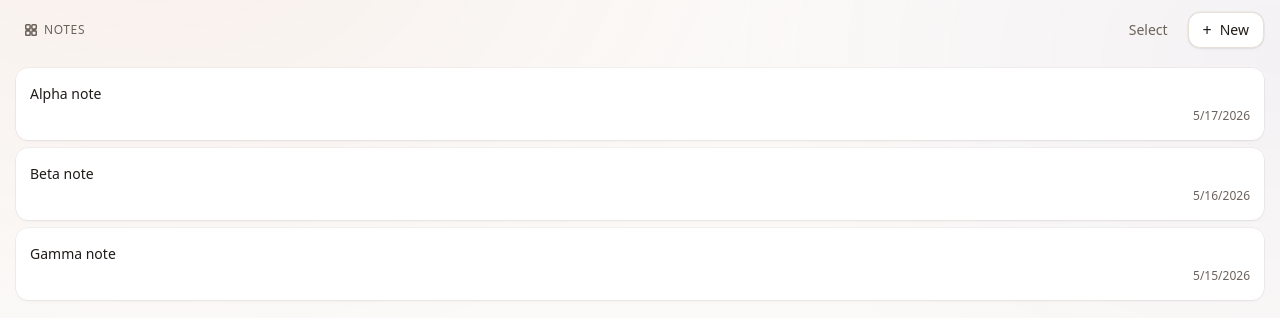
Scenario: NotesList › enters selection mode and toggles notes with click
Click the button "Select": x=1148, y=30 [1115, 12, 1182, 48]
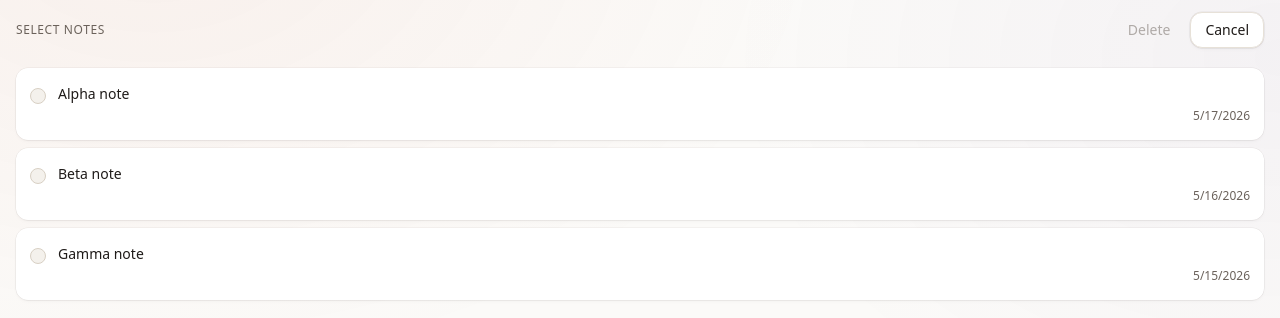
Result: the text "Select notes" is shown at [16, 22, 105, 38]
Click the checkbox named "select alpha note": x=94, y=94 [16, 68, 1264, 140]
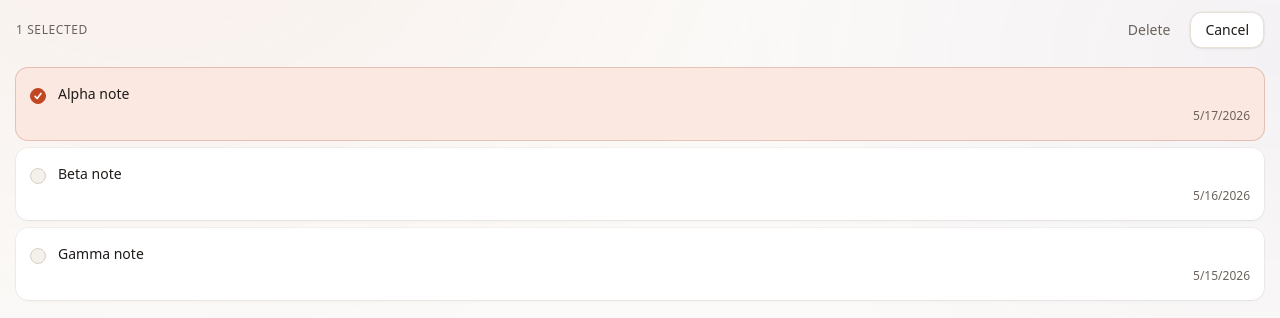
Result: the text "1 selected" is shown at [16, 22, 88, 38]
